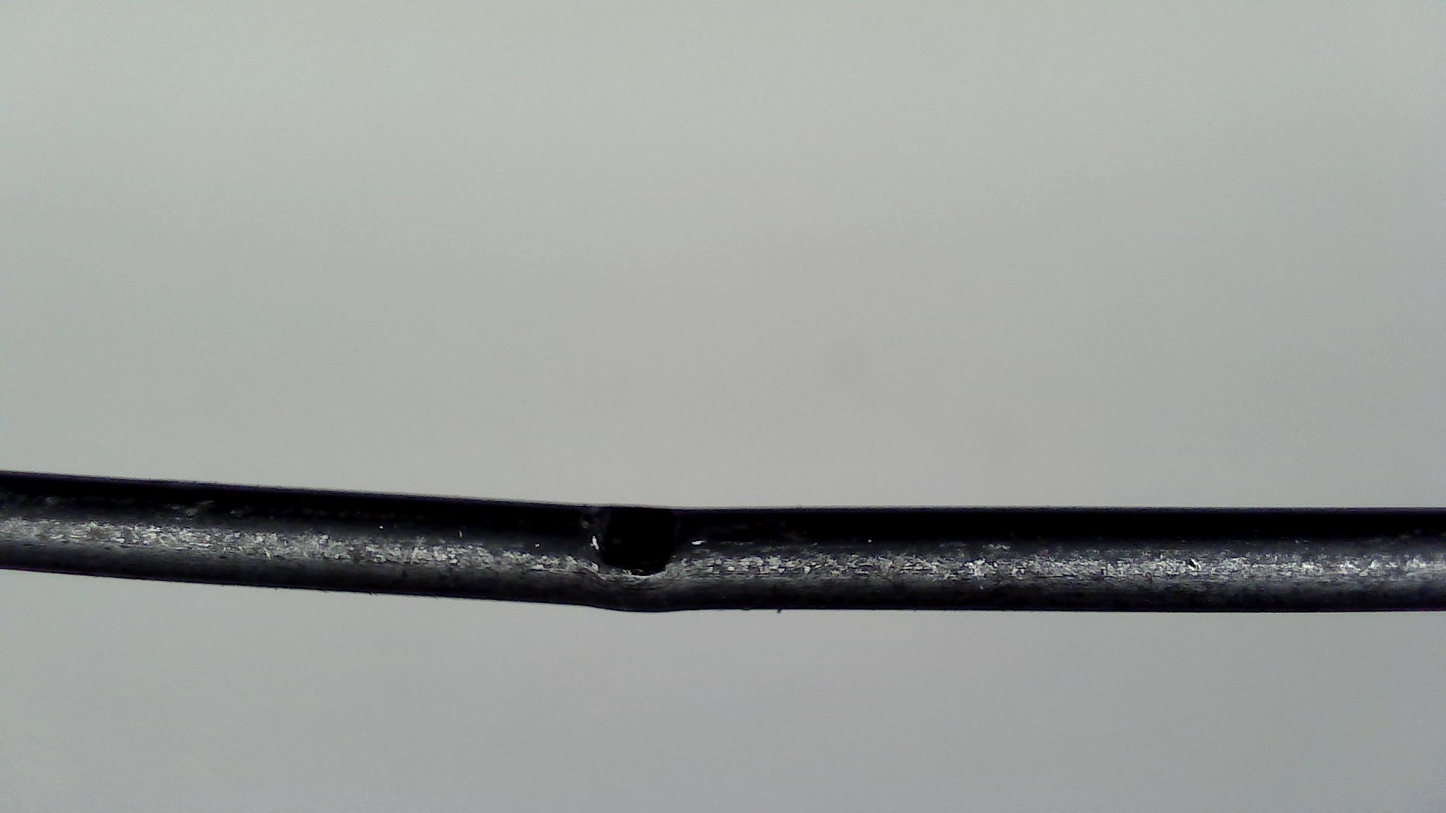defect: (402, 498, 928, 575)
